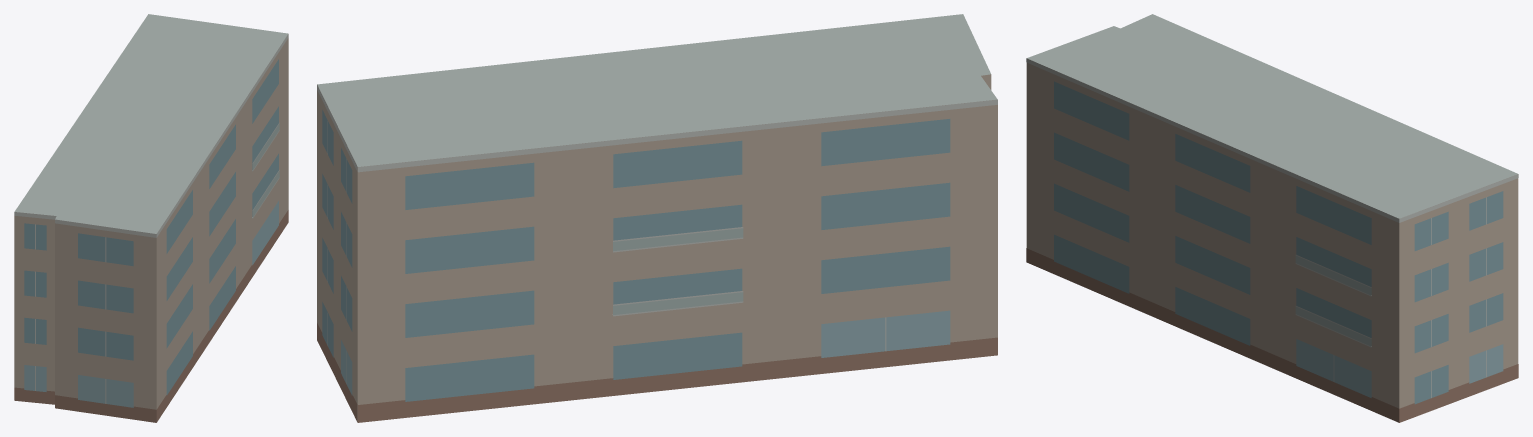
Rendered from survey-upis-32624068.glb.
3 renders of one model, left to right at view 1: azimuth 30°, elevation 25°; view 2: azimuth 150°, elevation 25°; view 3: azimuth 270°, elevation 25°, orthographic. The views are drawn at different scales.
Parts seen in each view (by area): view 1: survey-upis-32624068.tmp; view 2: survey-upis-32624068.tmp; view 3: survey-upis-32624068.tmp.
Part boxes in pixels (<box>): survey-upis-32624068.tmp: <box>14,14,288,422</box>; survey-upis-32624068.tmp: <box>317,14,997,422</box>; survey-upis-32624068.tmp: <box>1026,14,1518,422</box>.
Bounding box in the file's own units: 25.62 × 11.9 × 26.
